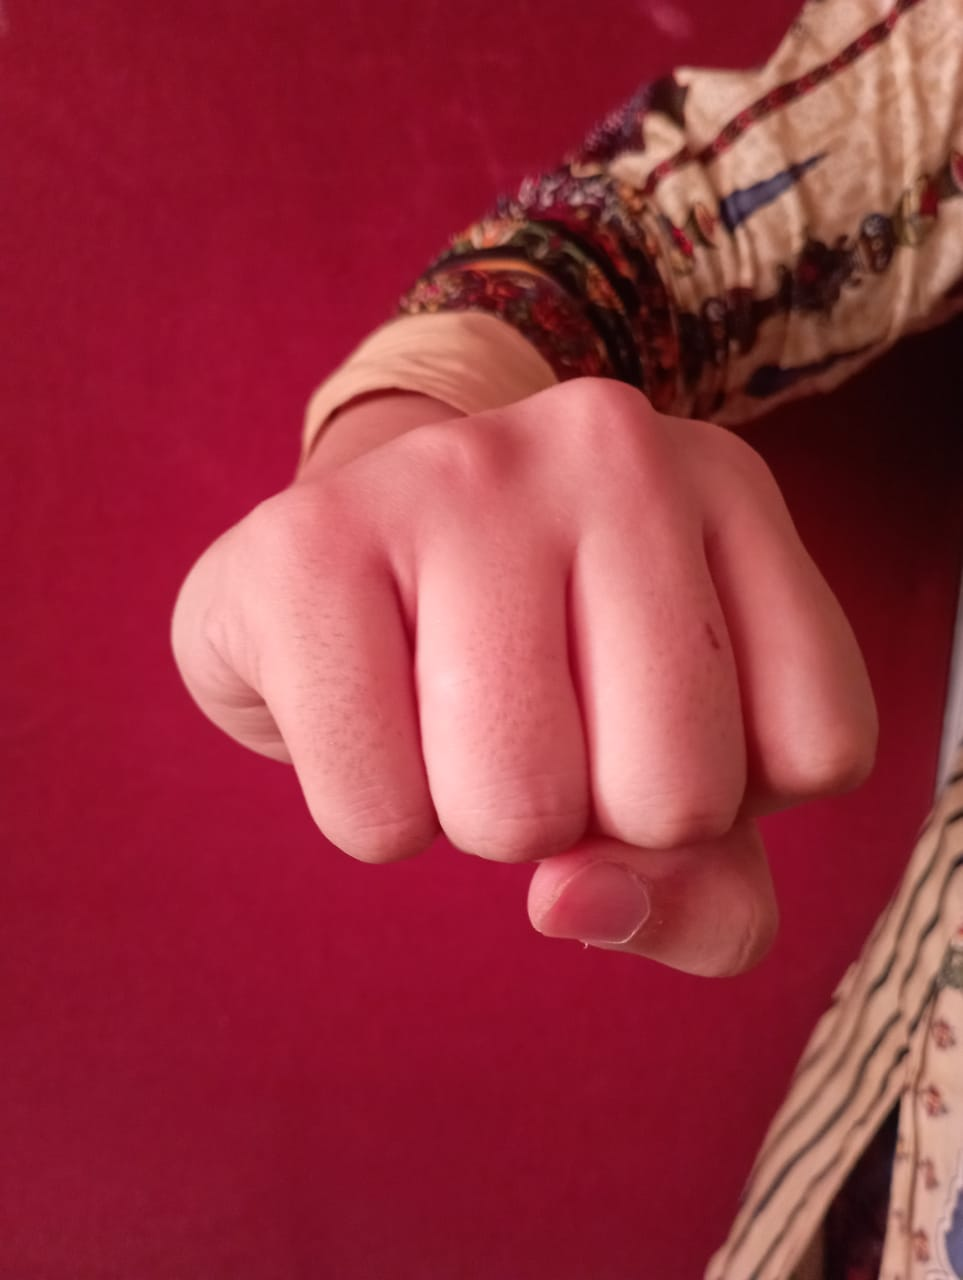BroCode: (146, 368, 897, 1010)
